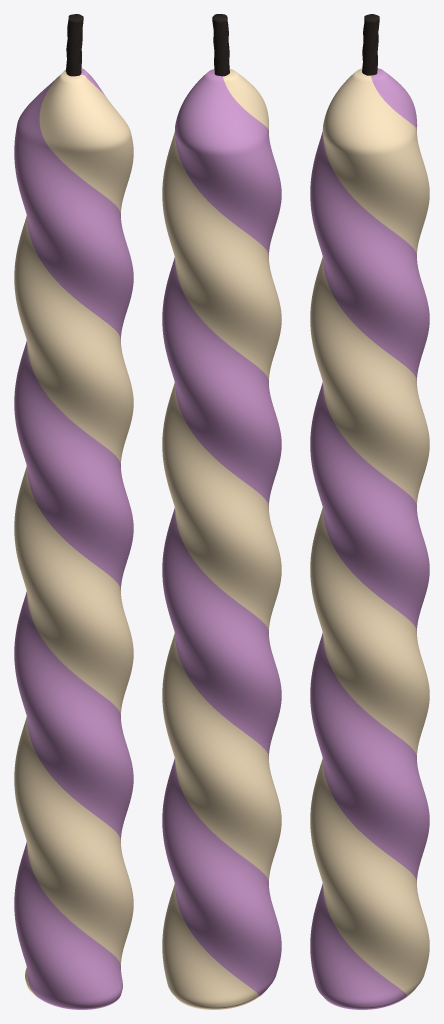
Rendered from candle.glb.
3 renders of one model, left to right at view 1: azimuth 30°, elevation 25°; view 2: azimuth 150°, elevation 25°; view 3: azimuth 330°, elevation 25°, orthographic.
Parts seen in each view (by area): view 1: Wax, Wick; view 2: Wax, Wick; view 3: Wax, Wick.
Boxes of the visible parts, bbox=[...] form: Wax: bbox=[14, 68, 133, 1009]; Wick: bbox=[66, 14, 83, 76]; Wax: bbox=[162, 69, 281, 1009]; Wick: bbox=[212, 14, 229, 76]; Wax: bbox=[310, 68, 429, 1009]; Wick: bbox=[362, 14, 379, 75].
Bounding box in the file's own units: 0.0166 × 0.1485 × 0.0166.
